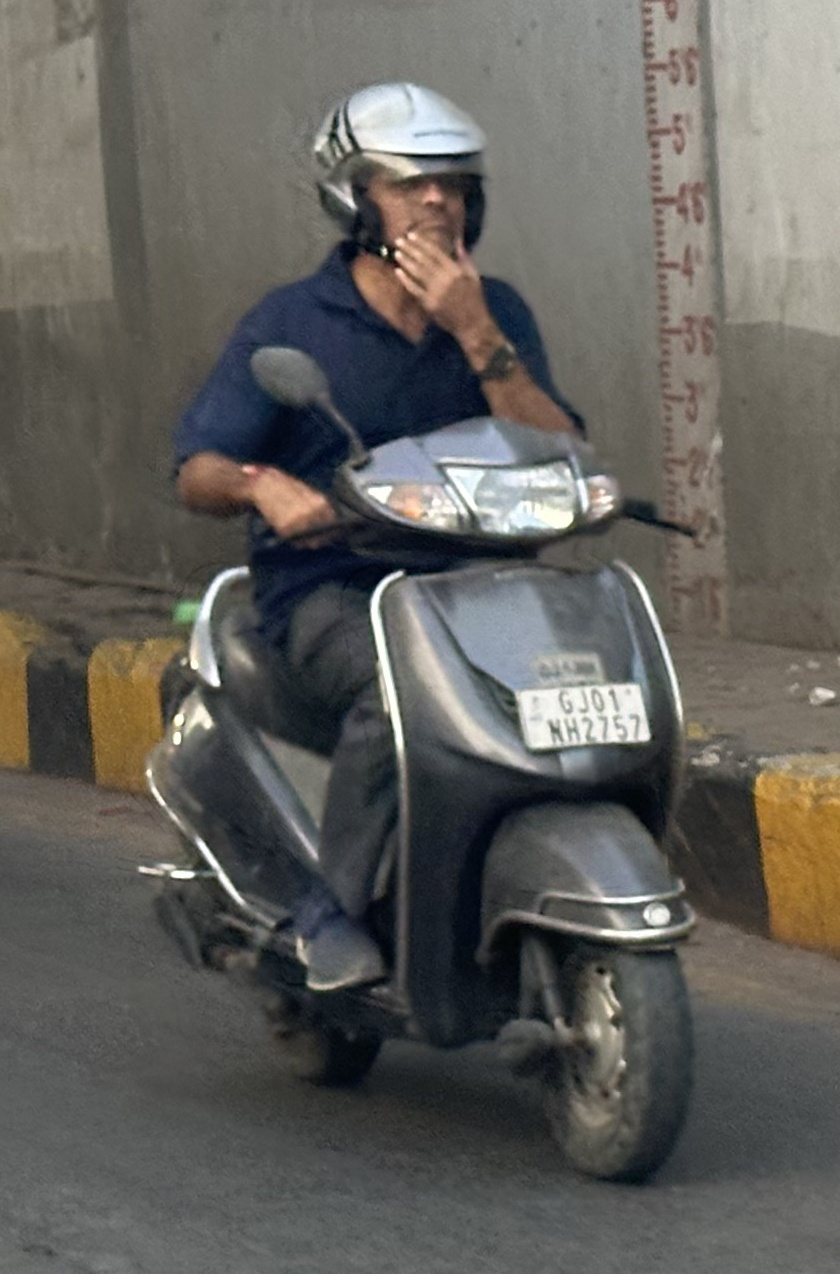BikeWithRider: (130, 76, 706, 1192)
Helmet: (298, 80, 496, 265)
